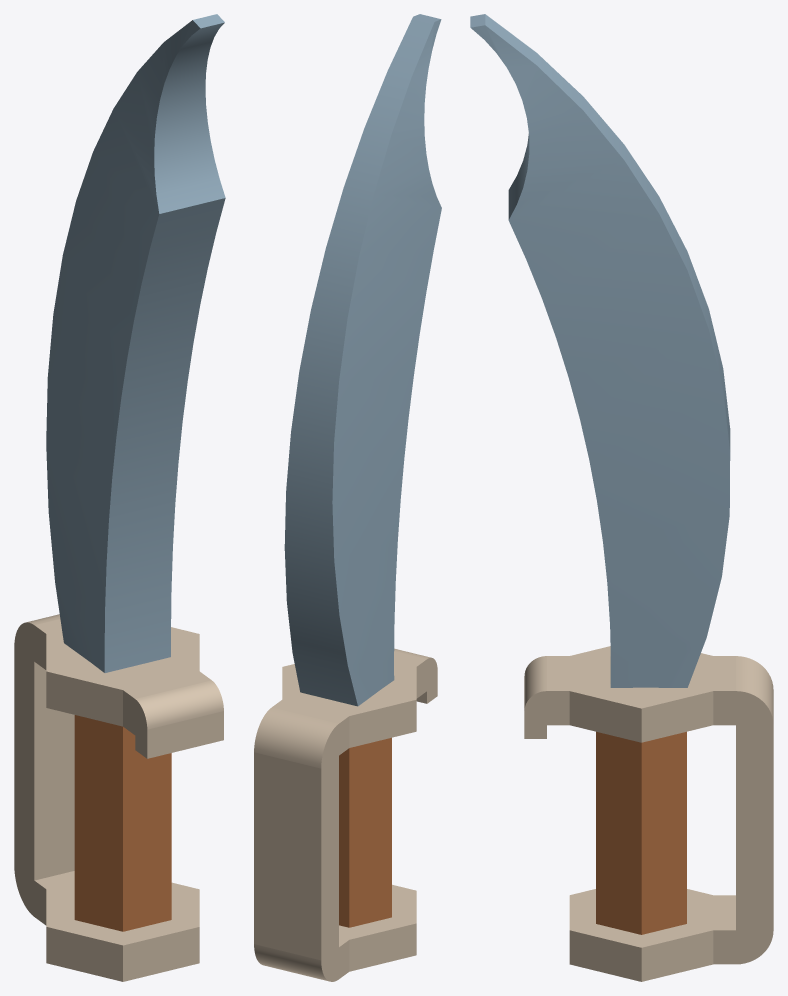
File: sword.obj
3 views of the same model, side by side, from view 1: azimuth 30°, elevation 25°; view 2: azimuth 150°, elevation 25°; view 3: azimuth 270°, elevation 25° (orthographic). The views are drawn at different scales.
Parts seen in each view (by area): view 1: sword; view 2: sword; view 3: sword.
Part boxes in pixels (box(x1,y1,x2,y2)): sword: box(14, 14, 225, 981); sword: box(254, 14, 441, 981); sword: box(470, 14, 773, 981).
Size of the model in its own units: 1.1 by 6.78 by 2.01.
